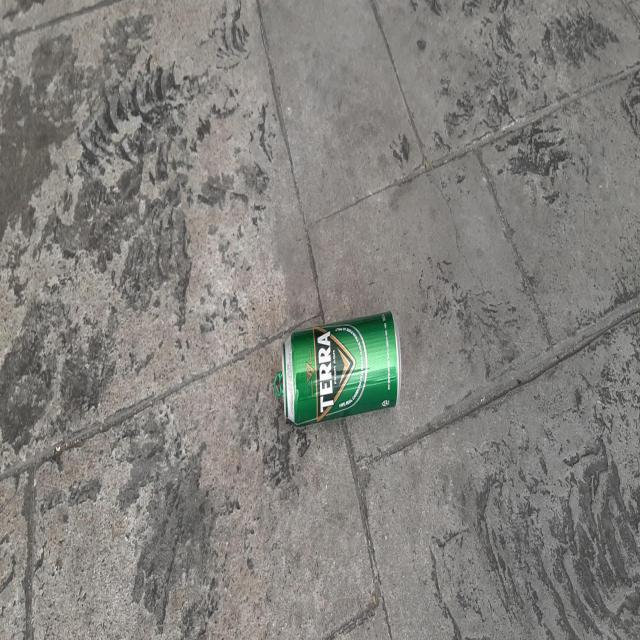can: (274, 309, 402, 425)
